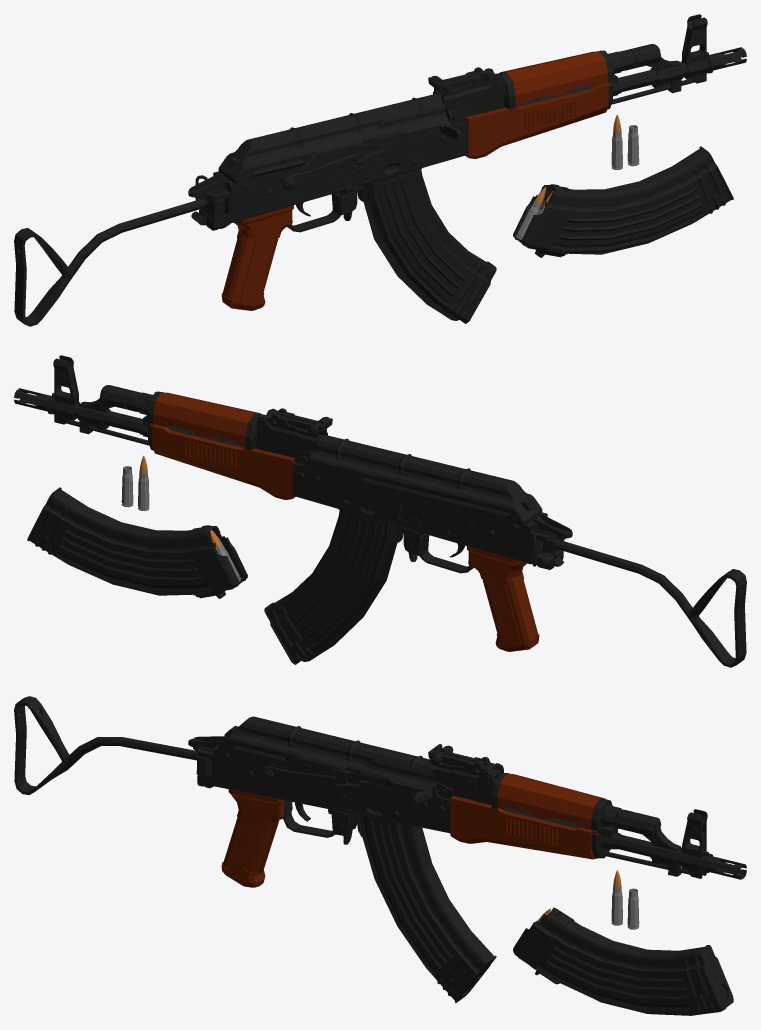
The model's file is low-poly_mpi-km-k.glb.
3 renders of one model, top to bottom at view 1: azimuth 30°, elevation 25°; view 2: azimuth 150°, elevation 25°; view 3: azimuth 330°, elevation 25°, orthographic.
Parts seen in each view (by area): view 1: mpikmk receiver_15, akm 30rnd steel mag_12, akm 30rnd empty steel mag_11, mpikmk handguard_4, mpikmk dust cover_5, mpikmk barrel_7, mpikmk stock_13, mpikmk grip_2, mpikmk bolt_6, mpikmk selector_1, mpikmk flash hider_14, 7.62x39_9; view 2: mpikmk receiver_15, akm 30rnd steel mag_12, akm 30rnd empty steel mag_11, mpikmk dust cover_5, mpikmk handguard_4, mpikmk barrel_7, mpikmk grip_2, mpikmk stock_13, mpikmk flash hider_14, 7.62x39_9; view 3: akm 30rnd steel mag_12, mpikmk receiver_15, akm 30rnd empty steel mag_11, mpikmk handguard_4, mpikmk dust cover_5, mpikmk barrel_7, mpikmk grip_2, mpikmk stock_13, mpikmk bolt_6, mpikmk selector_1, mpikmk flash hider_14, 7.62x39_9.
Boxes of the visible parts, bbox=[...] form: mpikmk receiver_15: bbox=[188, 50, 635, 232]; akm 30rnd steel mag_12: bbox=[513, 146, 733, 257]; akm 30rnd empty steel mag_11: bbox=[357, 168, 496, 323]; mpikmk handguard_4: bbox=[465, 51, 611, 158]; mpikmk dust cover_5: bbox=[218, 93, 443, 184]; mpikmk barrel_7: bbox=[466, 14, 708, 116]; mpikmk stock_13: bbox=[14, 198, 225, 326]; mpikmk grip_2: bbox=[221, 205, 293, 310]; mpikmk bolt_6: bbox=[363, 58, 635, 144]; mpikmk selector_1: bbox=[279, 139, 383, 192]; mpikmk flash hider_14: bbox=[706, 47, 746, 73]; 7.62x39_9: bbox=[611, 114, 622, 169]; mpikmk receiver_15: bbox=[125, 391, 572, 573]; akm 30rnd steel mag_12: bbox=[27, 487, 247, 598]; akm 30rnd empty steel mag_11: bbox=[264, 509, 403, 664]; mpikmk dust cover_5: bbox=[310, 434, 542, 525]; mpikmk handguard_4: bbox=[149, 392, 295, 499]; mpikmk barrel_7: bbox=[52, 355, 294, 458]; mpikmk grip_2: bbox=[467, 546, 539, 651]; mpikmk stock_13: bbox=[543, 540, 746, 667]; mpikmk flash hider_14: bbox=[14, 388, 54, 414]; 7.62x39_9: bbox=[138, 455, 149, 510]; akm 30rnd steel mag_12: bbox=[513, 907, 733, 1015]; mpikmk receiver_15: bbox=[188, 726, 633, 837]; akm 30rnd empty steel mag_11: bbox=[356, 814, 496, 1002]; mpikmk handguard_4: bbox=[450, 773, 605, 859]; mpikmk dust cover_5: bbox=[218, 716, 444, 773]; mpikmk barrel_7: bbox=[456, 796, 708, 878]; mpikmk grip_2: bbox=[221, 789, 292, 887]; mpikmk stock_13: bbox=[14, 696, 211, 794]; mpikmk bolt_6: bbox=[347, 759, 628, 822]; mpikmk selector_1: bbox=[260, 760, 361, 787]; mpikmk flash hider_14: bbox=[701, 853, 746, 879]; 7.62x39_9: bbox=[611, 870, 622, 925].
Bounding box in the file's own units: 7.92 × 2.56 × 0.7108.
